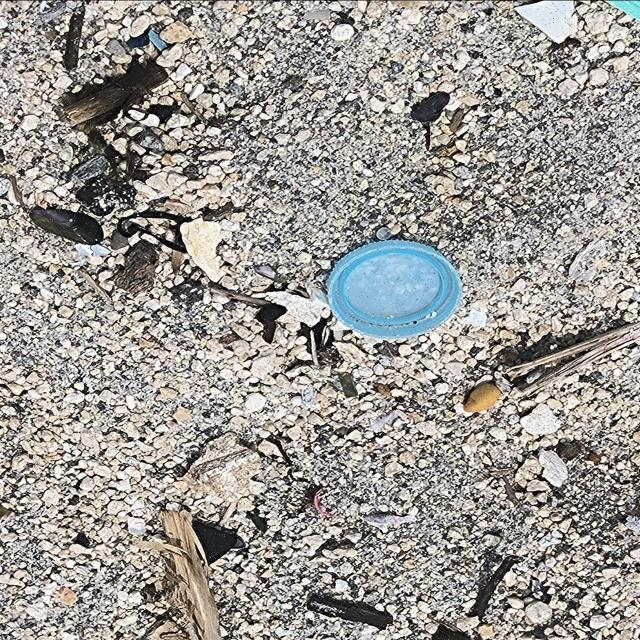plastic_waste: (324, 242, 464, 340)
